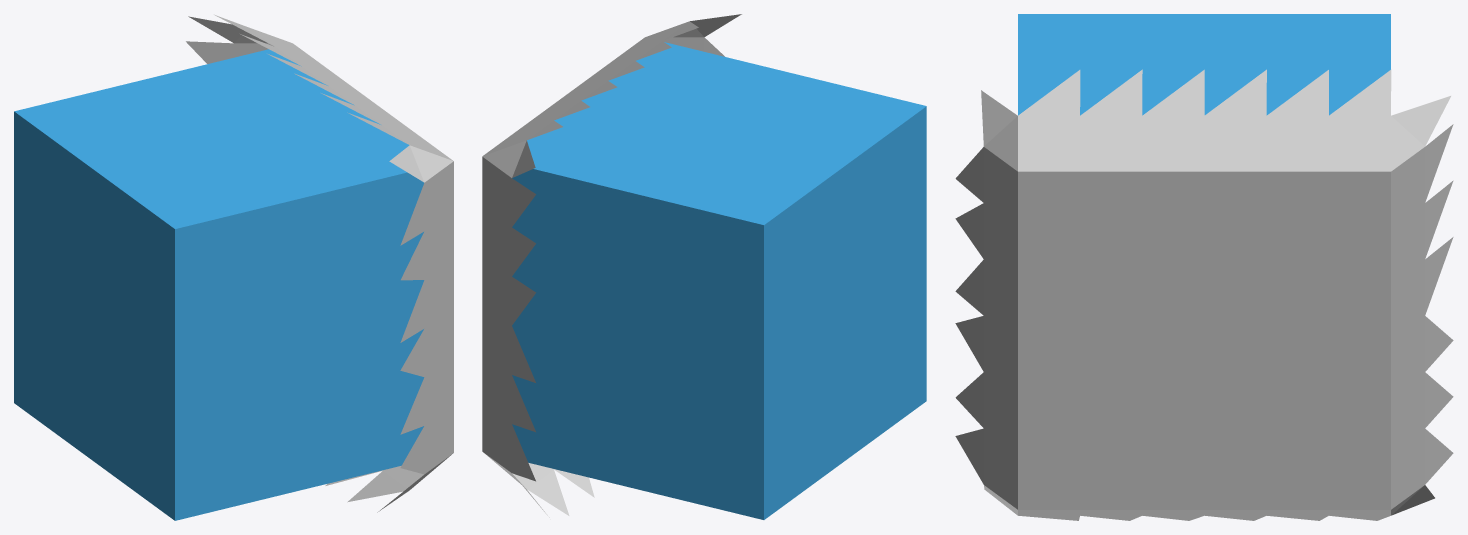
Rendered from Tile_Grass_Ice.fbx.
The picture shows the model from 3 angles, left to right: view 1: azimuth 30°, elevation 25°; view 2: azimuth 150°, elevation 25°; view 3: azimuth 270°, elevation 25°; orthographic projection. The views are drawn at different scales.
Visible parts, largest first — view 1: block; view 2: block; view 3: block.
Part boxes in pixels (left/top/right/bottom): block: left=14, top=14, right=453, bottom=520; block: left=482, top=14, right=926, bottom=519; block: left=955, top=14, right=1453, bottom=520.
Size of the model in its own units: 39.37 by 52.58 by 52.58.
